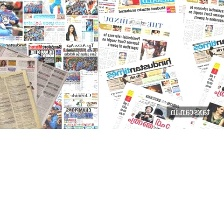news_paper: (0, 41, 98, 131), (0, 41, 71, 129), (98, 53, 187, 116), (98, 11, 176, 76), (0, 0, 97, 42), (107, 80, 188, 130), (185, 49, 223, 128), (0, 67, 43, 128), (183, 33, 224, 92), (0, 55, 40, 107), (181, 0, 223, 48), (99, 0, 177, 17)
